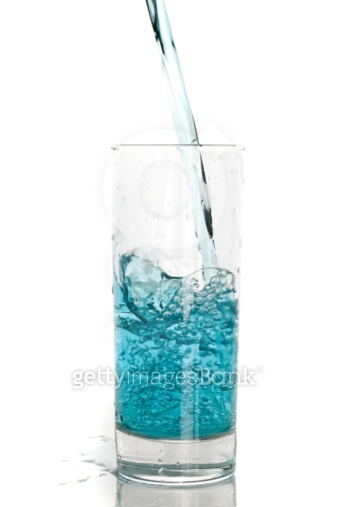glass of water: (106, 138, 239, 476)
